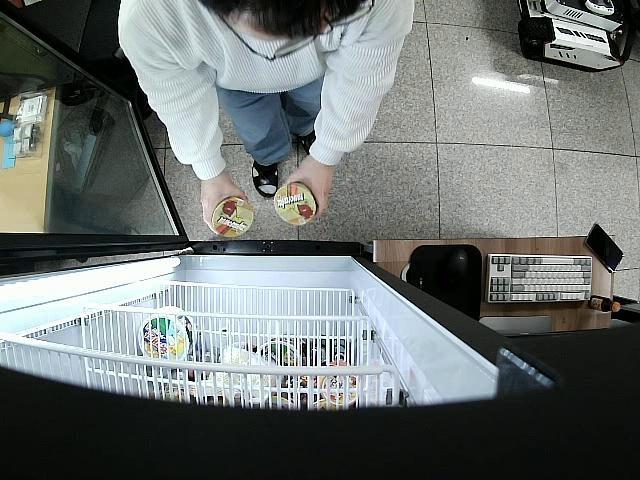04_chapagetti_S: (274, 183, 318, 226), (211, 198, 254, 238)
